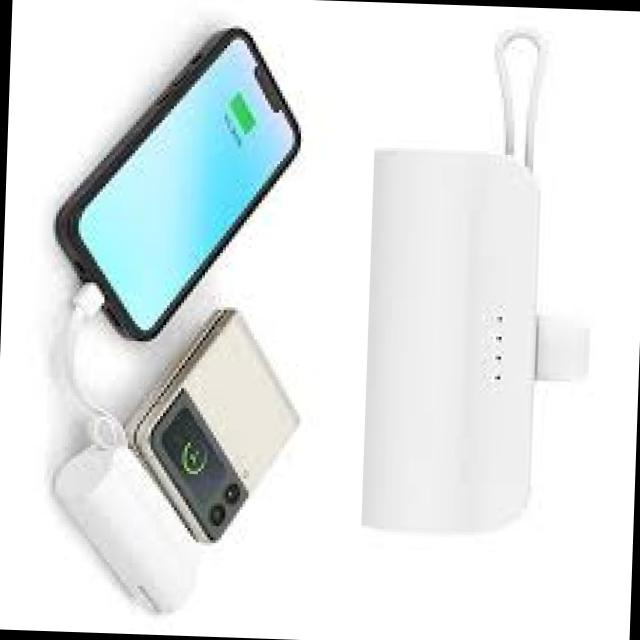power_bank: (359, 145, 595, 542), (36, 436, 205, 617)
